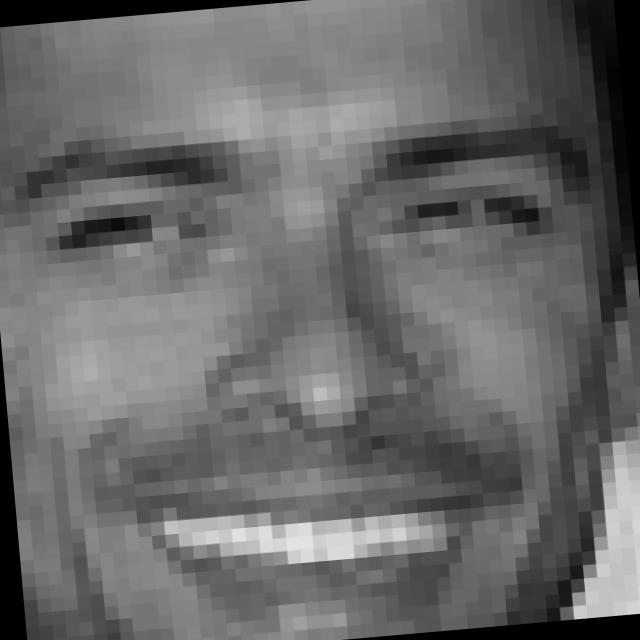happy: (11, 101, 622, 640)
